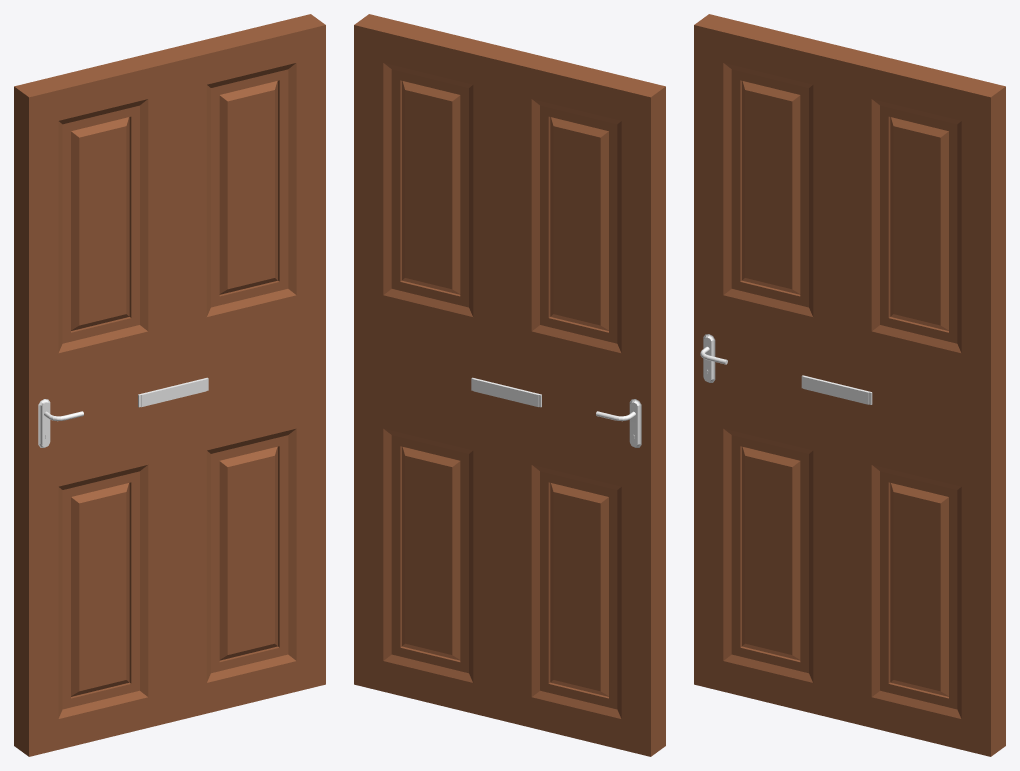
File: uploads_files_2494402_Door.fbx
The picture shows the model from 3 angles, left to right: view 1: azimuth 30°, elevation 25°; view 2: azimuth 150°, elevation 25°; view 3: azimuth 330°, elevation 25°; orthographic projection.
Parts seen in each view (by area): view 1: Cube; view 2: Cube; view 3: Cube.
Part boxes in pixels (<box>): Cube: <box>14,14,325,756</box>; Cube: <box>354,14,665,756</box>; Cube: <box>694,14,1005,756</box>.
Size of the model in its own units: 97.46 by 207 by 21.98.
